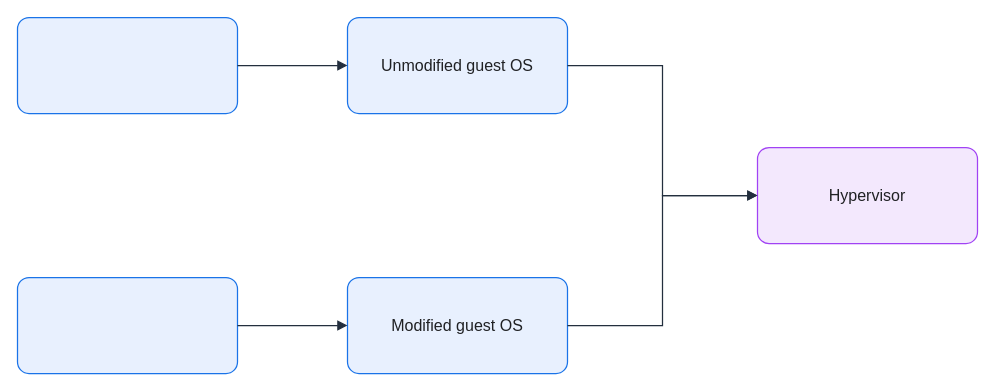
Image size: 996x392. Some labels were removed from this diagram. The shapes that lost their labels are listed below. From the top down, each one's centre as x and y in pixels, then its label:
At pixel 127 65: "Full virtualization".
At pixel 127 325: "Paravirtualization".
